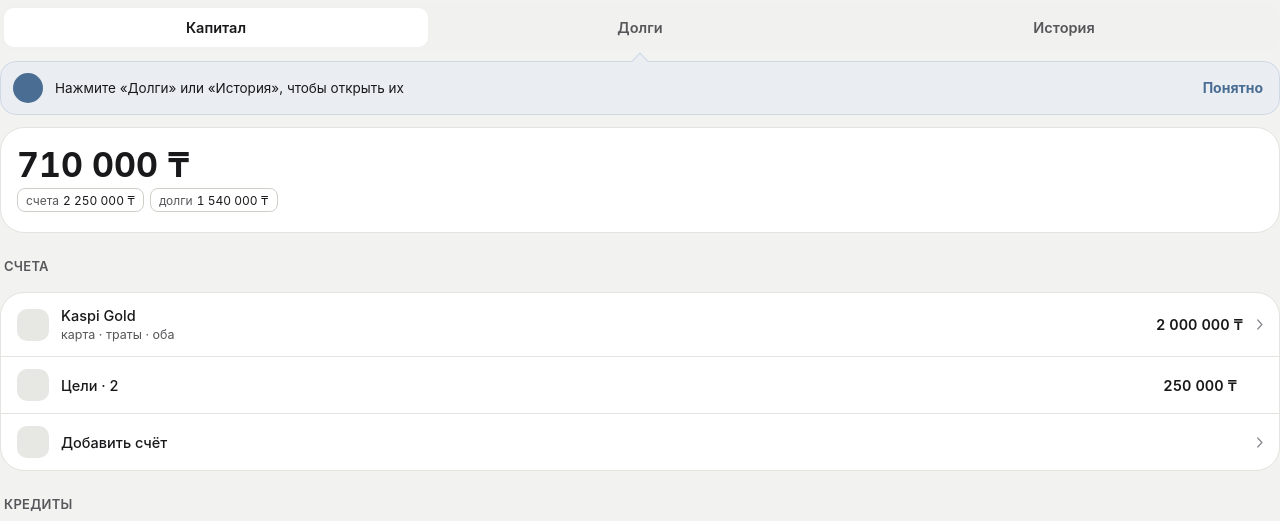
PN-05: плашка Капитала — формула «счета − долги» и аккордеон статистики › кредит не закрывается при нынешнем платеже — «Долги не закрываются при текущих платежах», переплаты нет
Click the button "710 000 ₸ счета 2 250 000 ₸ долги 1 540 000 ₸". click: [103, 165]
box: [0, 127, 1279, 233]
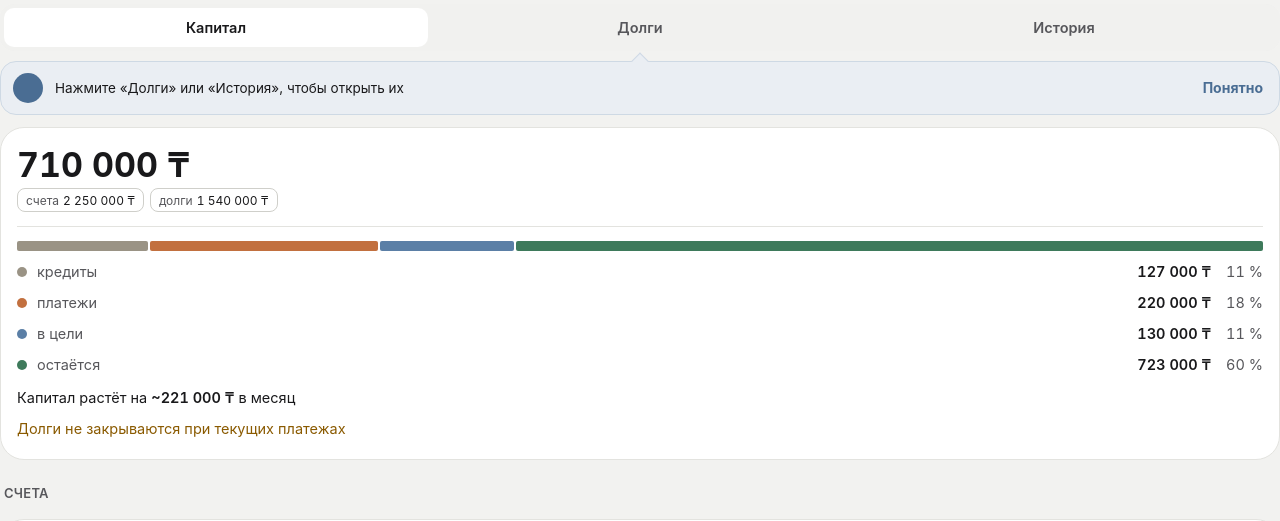
Now the text "Долги не закрываются при текущих платежах" is shown, box [17, 420, 346, 437]
